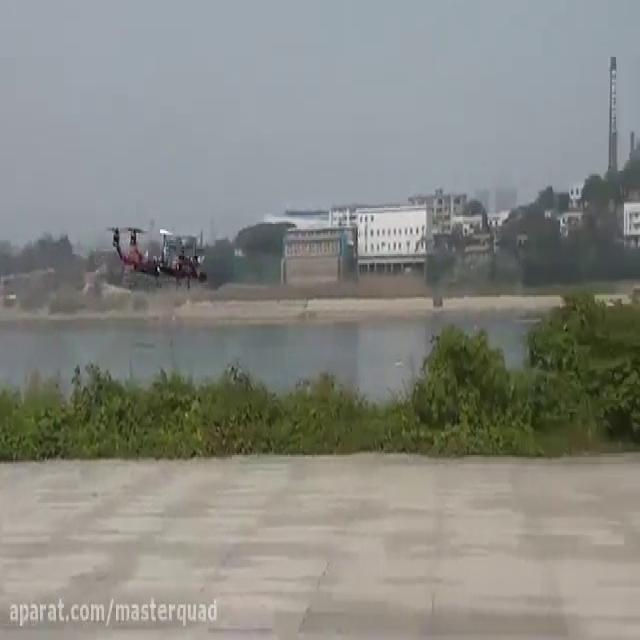drone: (102, 218, 210, 288)
